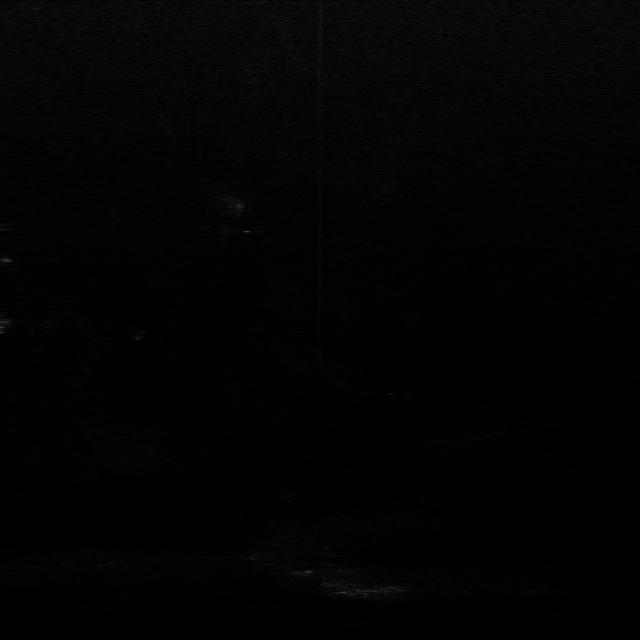rov: (0, 317, 17, 337)
